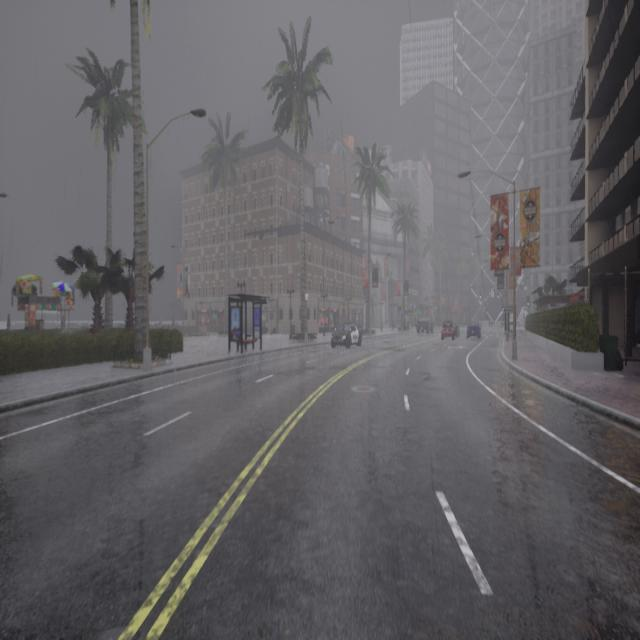9: (526, 295, 530, 306), (479, 290, 482, 300), (498, 290, 500, 298)
bien_hieu_lenh: (526, 302, 530, 306), (479, 296, 482, 299), (498, 295, 500, 298)
